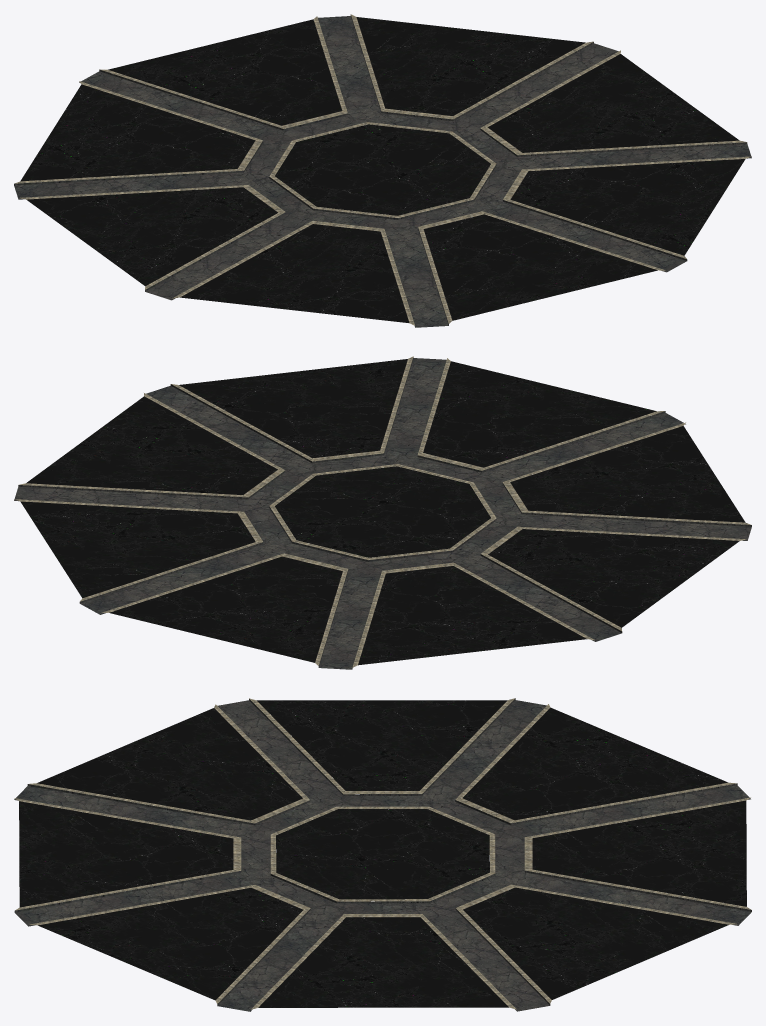
Rendered from TW2_5_TOWER_02_3-transformed.glb.
3 renders of one model, top to bottom at view 1: azimuth 30°, elevation 25°; view 2: azimuth 150°, elevation 25°; view 3: azimuth 270°, elevation 25°, orthographic. The views are drawn at different scales.
Visible parts, largest first — view 1: default; view 2: default; view 3: default.
Boxes of the visible parts, left/top/right/bottom form: default: left=14, top=14, right=751, bottom=327; default: left=14, top=356, right=751, bottom=669; default: left=14, top=698, right=751, bottom=1011.
Size of the model in its own units: 21.07 by 0.0605 by 21.07.
Materials: 3 (3 with a texture image).
